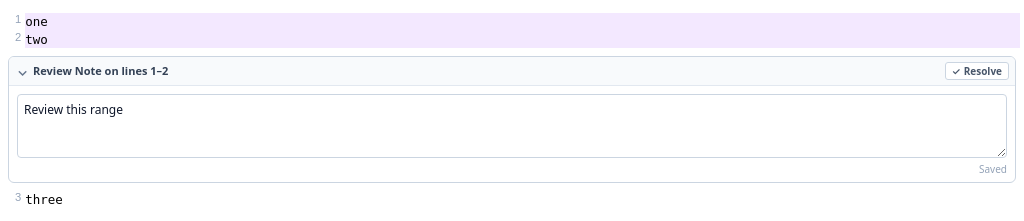
Test case: Review Note source selection › inserts an expandable range note after its final anchored line
The width and height of the screenshot is (1024, 221).
Step 1. Click the button "⌄ Review Note on lines 1–2" → click(101, 70), box [9,57,945,85]
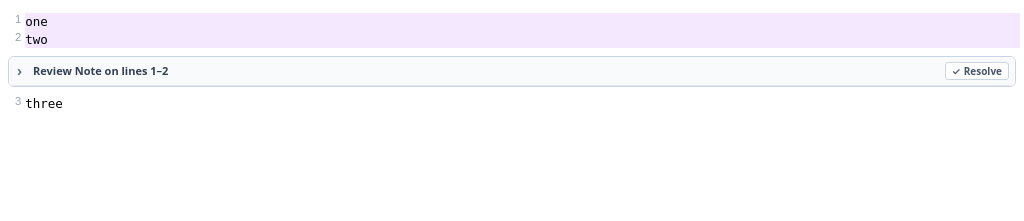
expect the button "› Review Note on lines 1–2" is collapsed: met, box [9,57,945,85]
